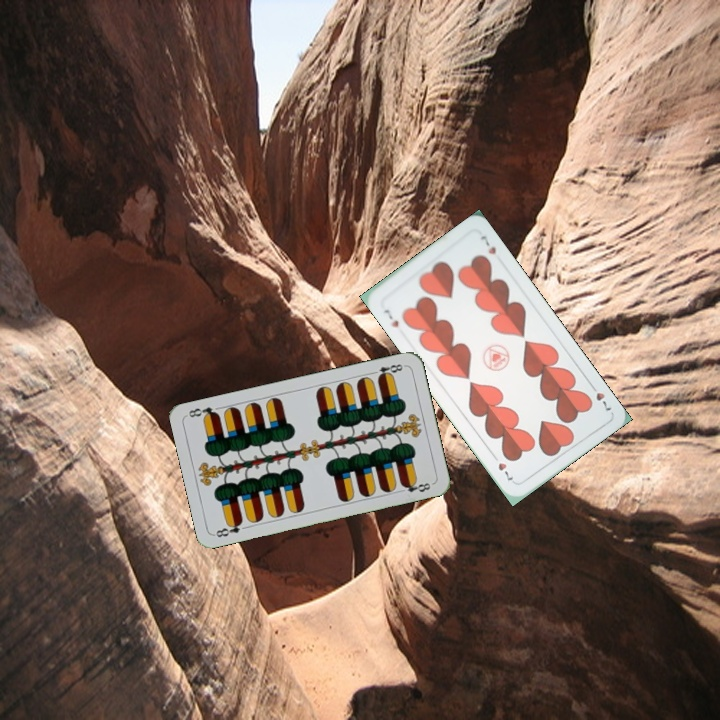E8: (367, 360, 407, 381), (212, 517, 245, 540)
H7: (586, 379, 614, 415), (380, 305, 401, 330)
